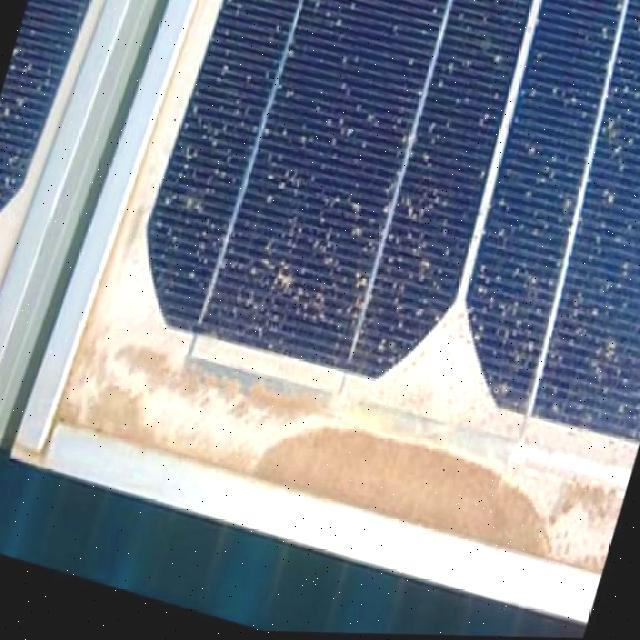Surface Contaminant: (142, 0, 640, 445)
